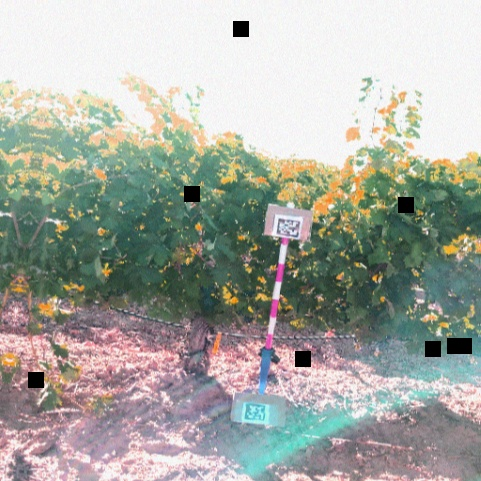QR: (277, 216, 302, 237), (244, 402, 270, 421)
